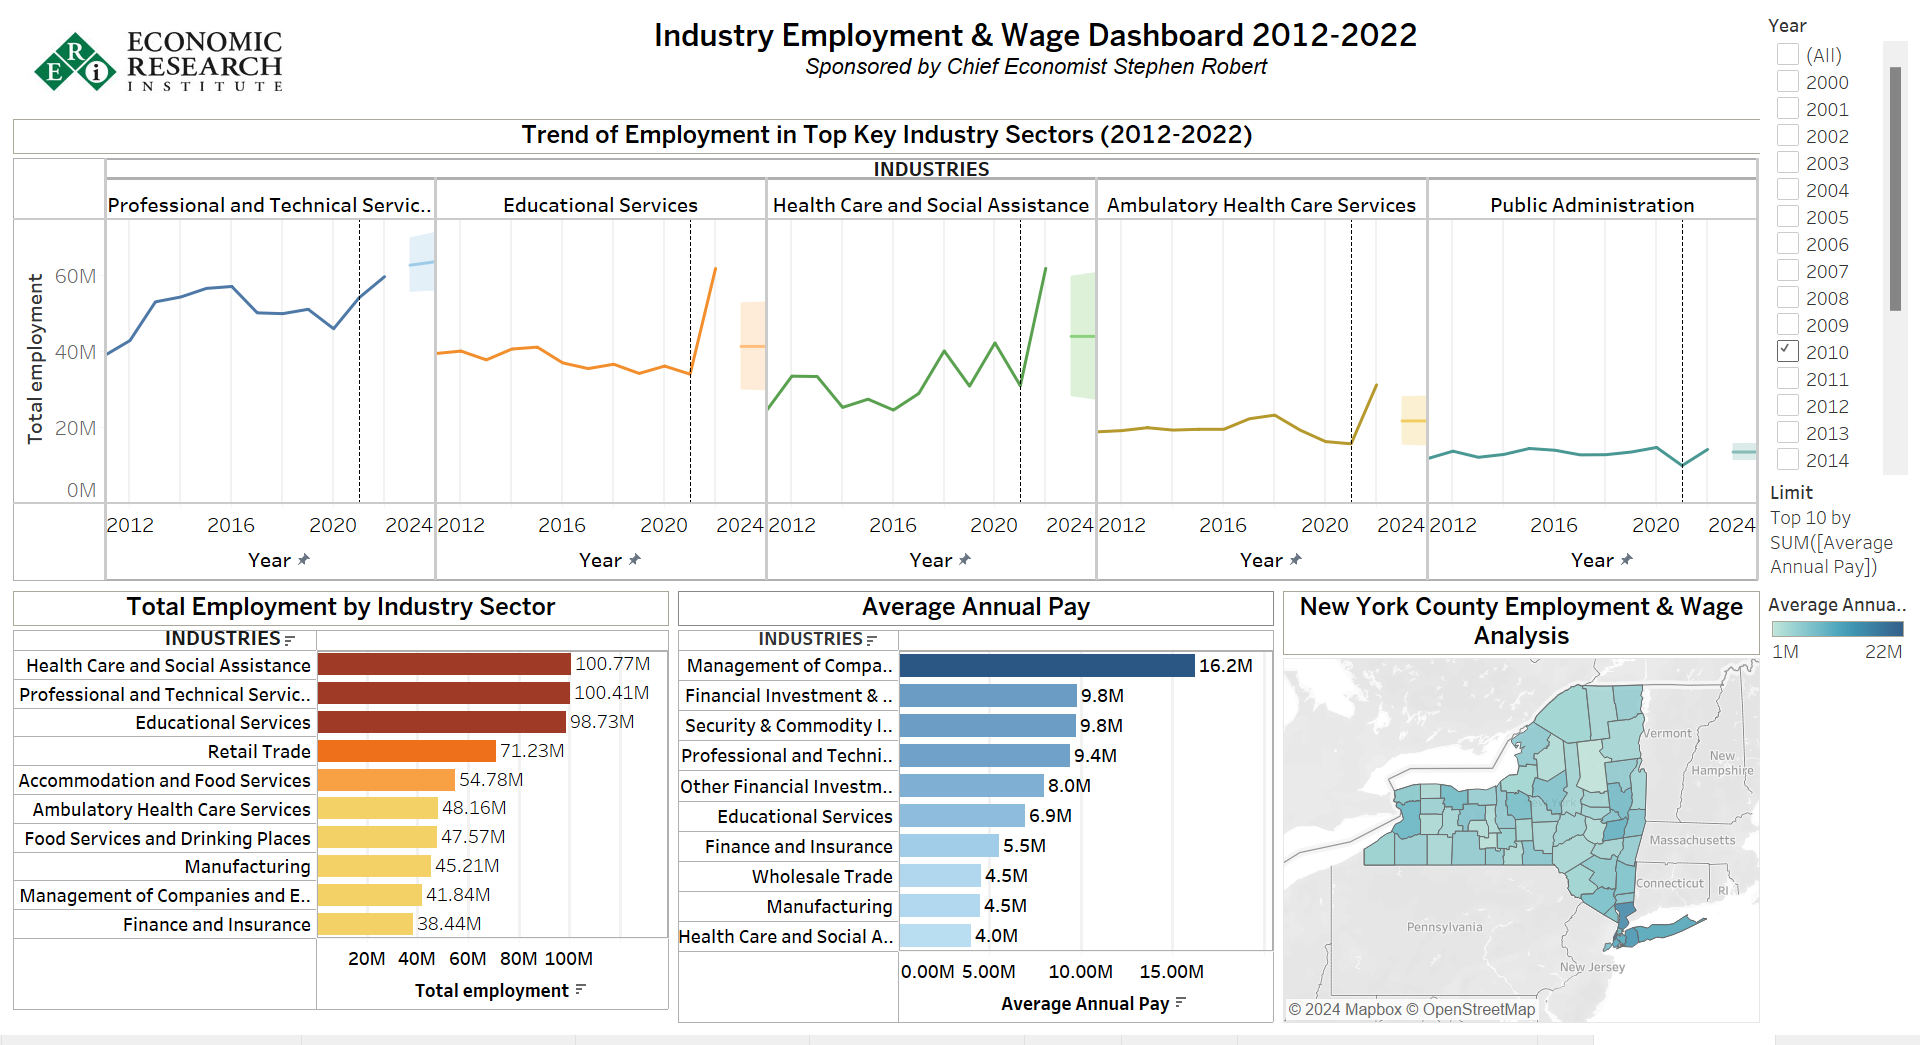

Layout of this report page (visuals, bound fields, positions):
{"tool":"tableau","page":{"name":"Final Dashboard ","canvas":[1000,1000],"units":"permille","ordinal":0},"visuals":[{"type":"image","param":"C:/Users/pc/Desktop/Quarterly_Census_of_Employment_and_Wages_Quarterly_Data__Beg","box":[7.3,10.6,145.1,103.2]},{"type":"text","box":[152.4,10.6,705.1,103.2]},{"type":"filter","title":"G1:Top industries using bar ","param":"[federated.0i1vfak1o3cme01aqc64m16f9du1].[none:Year:ok]","box":[857.5,10.6,135.2,556]},{"type":"worksheet","title":"G6: Industry Dynamics","mark":"Automatic","rows":["Calculation_1579074672233934848"],"cols":["NAICS Title","Year"],"box":[7.3,113.9,850.2,452.6]},{"type":"worksheet","title":"G1:Top industries using bar ","mark":"Automatic","rows":["NAICS Title"],"cols":["Calculation_1579074672233934848"],"box":[7.3,566.4,607.3,422.9]},{"type":"worksheet","title":"G2:Industries avg pay","mark":"Automatic","rows":["NAICS Title"],"cols":["Calculation_935059879257718784"],"box":[614.6,566.4,121.5,422.9]},{"type":"worksheet","title":"Map","mark":"Multipolygon","box":[736.1,566.4,121.5,422.9]},{"type":"legend","title":"Map","param":"[federated.0i1vfak1o3cme01aqc64m16f9du1].[sum:Calculation_935059879257718784:qk]","box":[857.5,566.6,135.2,107.7]}]}

Visuals, with their boxes on the dashboard's canvas, which has no fixed pixel size, in thousandths of its width and height (x1, y1, x2, y2). These are canvas units, not pixel positions in the 1920x1045 screenshot, which may show the page scaled, cropped or inside an application window:
image: [left=7, top=11, right=152, bottom=114]
text: [left=152, top=11, right=858, bottom=114]
"G1:Top industries using bar " filter: [left=858, top=11, right=993, bottom=567]
"G6: Industry Dynamics" worksheet: [left=7, top=114, right=858, bottom=566]
"G1:Top industries using bar " worksheet: [left=7, top=566, right=615, bottom=989]
"G2:Industries avg pay" worksheet: [left=615, top=566, right=736, bottom=989]
"Map" worksheet (Multipolygon marks): [left=736, top=566, right=858, bottom=989]
"Map" legend: [left=858, top=567, right=993, bottom=674]
